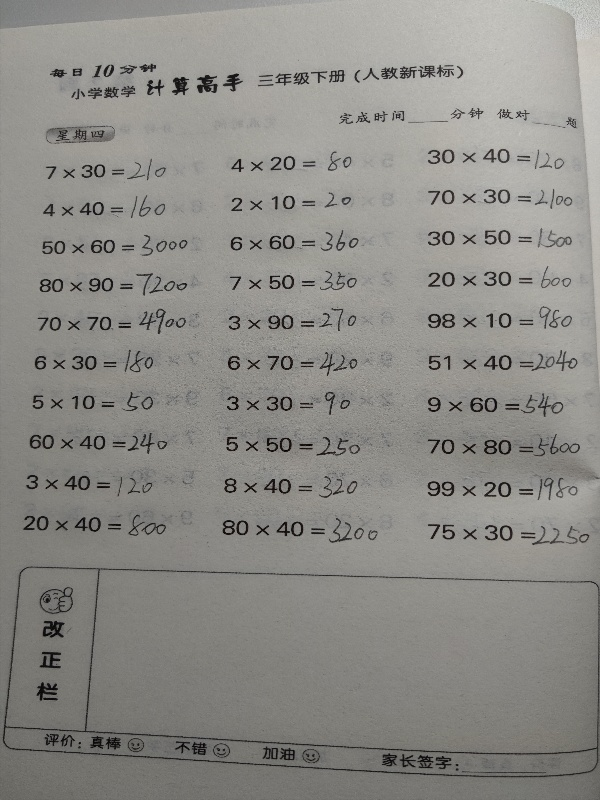equation: (219, 515, 382, 547), (34, 305, 188, 338), (424, 431, 583, 462), (424, 474, 582, 504), (424, 520, 593, 548), (425, 262, 576, 293), (220, 470, 361, 503), (216, 387, 366, 418), (36, 270, 191, 300), (423, 302, 576, 332), (39, 231, 192, 261), (425, 346, 582, 375), (222, 426, 363, 458), (20, 511, 170, 541), (424, 390, 568, 421), (22, 468, 156, 500), (224, 349, 362, 380), (425, 185, 577, 213), (26, 430, 172, 458), (425, 225, 576, 252), (226, 305, 361, 335), (226, 228, 362, 257), (39, 193, 169, 223), (424, 144, 568, 171), (31, 347, 158, 377), (226, 267, 361, 295), (42, 155, 170, 184), (228, 148, 356, 176), (29, 389, 157, 416), (227, 190, 354, 213)
